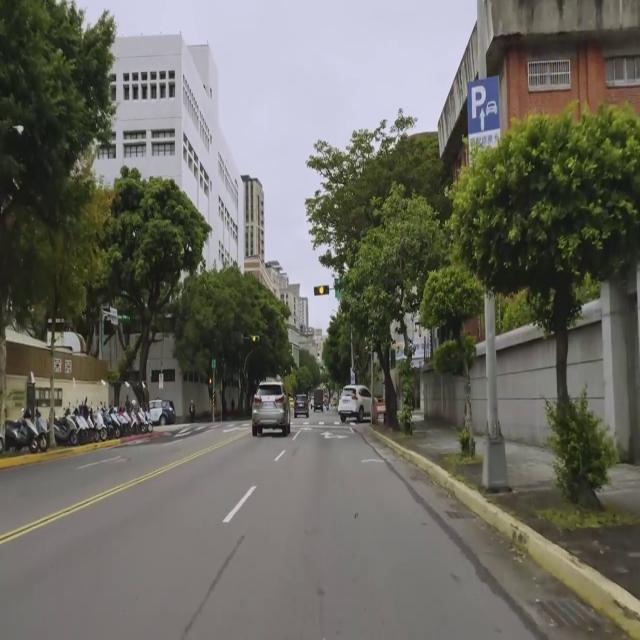yellow light: (314, 286, 329, 295), (248, 335, 260, 344)
